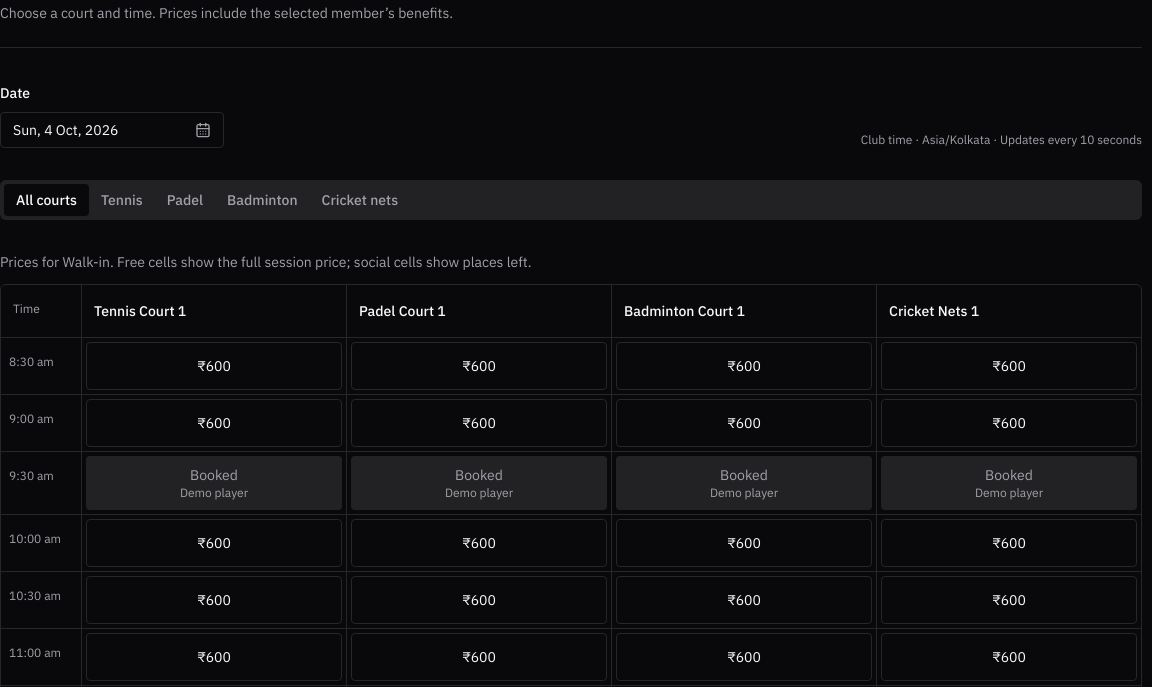
it: booking calendar › keeps the payment dialog open with the reason when the booking is refused, and sends nothing on cancel
The image size is (1152, 687).
Step 1. Click the button named "Tennis Court 1, 8:30 am, ₹600" → (214, 366), box [86,342,342,390]
(page scrolled)
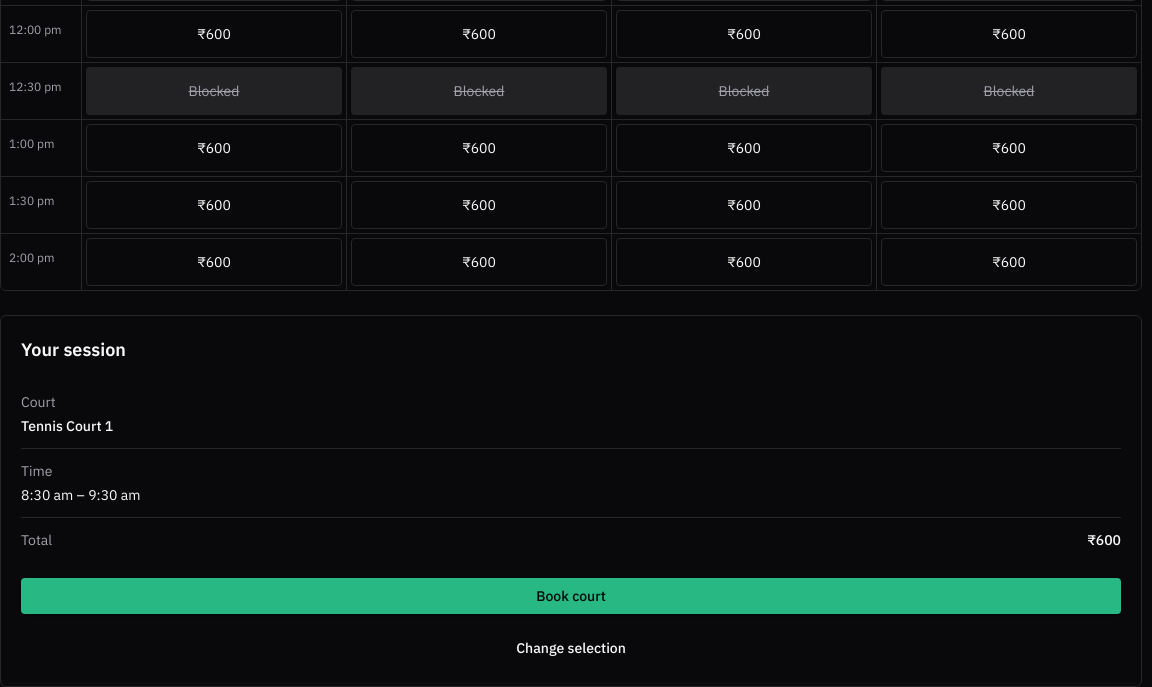
Step 2. Click the button "Book court" → (571, 596), box [21,578,1121,614]
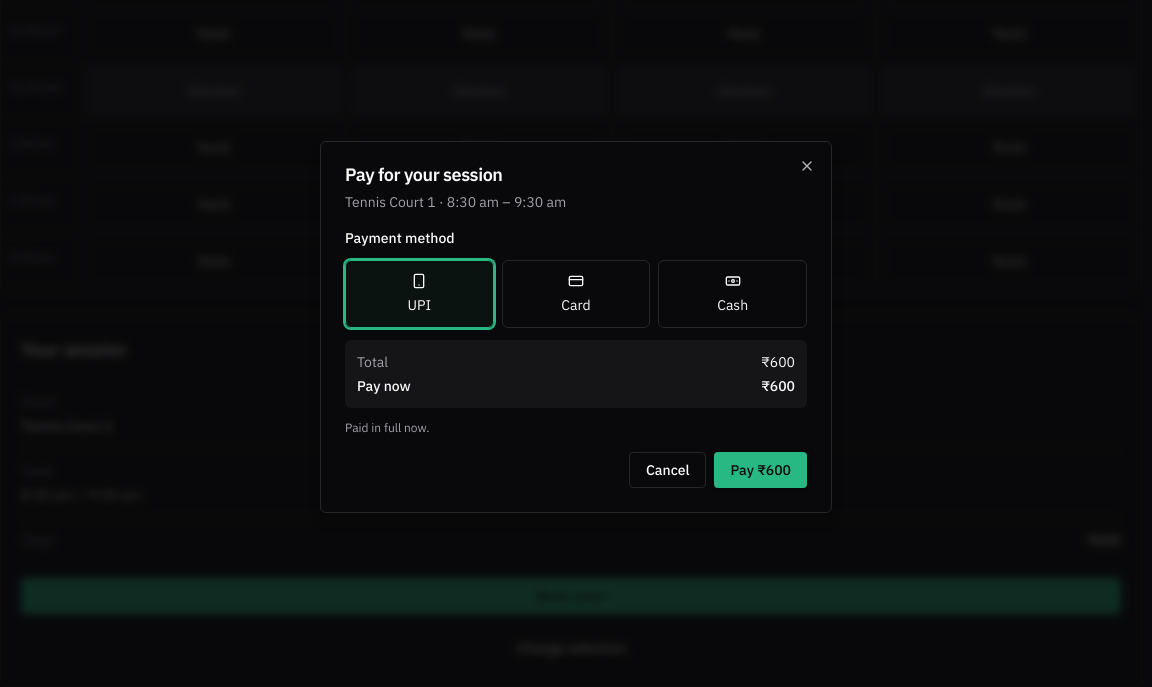
Step 3. Click the button "Pay ₹600" → (761, 470), box [714,452,807,488]
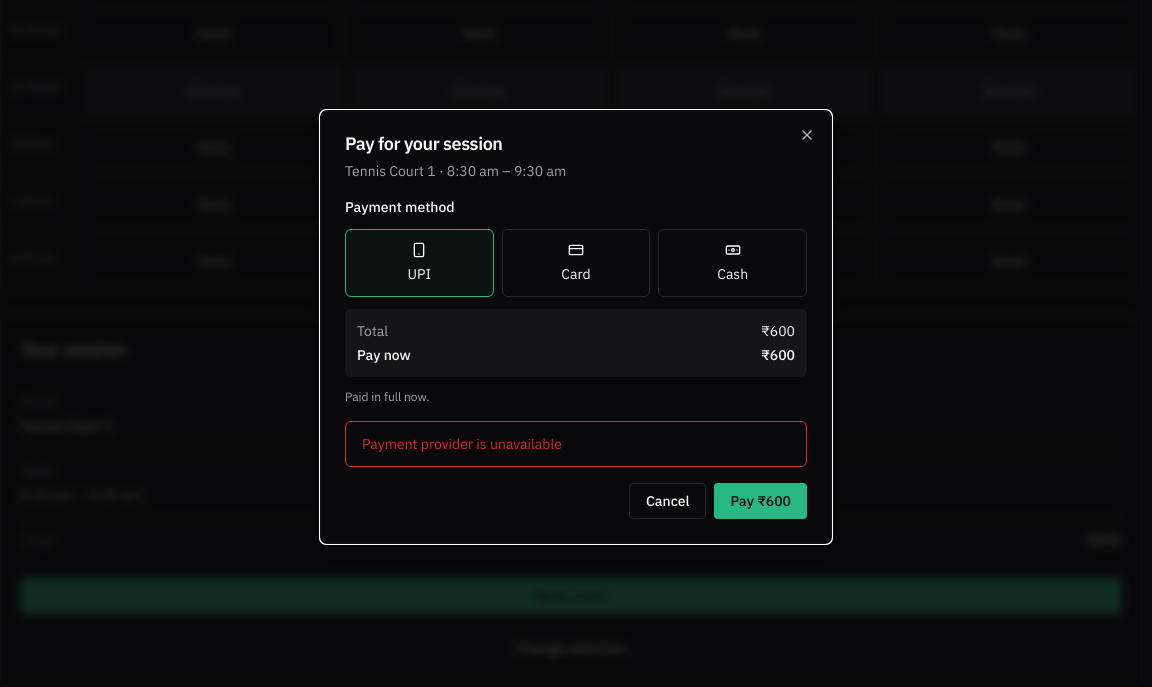
Expected: the message reads "Payment provider is unavailable", [362,435,562,453]
Step 4. Click the button "Cancel" → (668, 501), box [629,483,706,519]
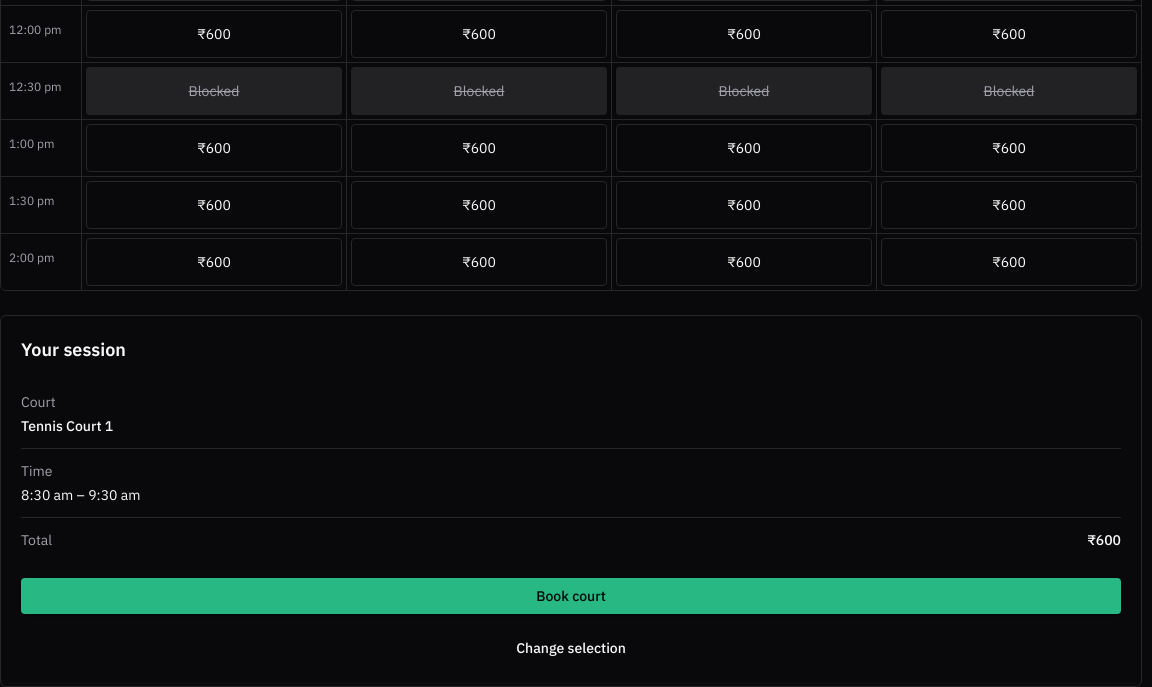
Expected: the button "Book court" is shown, [21,578,1121,614]
Expected: the dialog is gone
